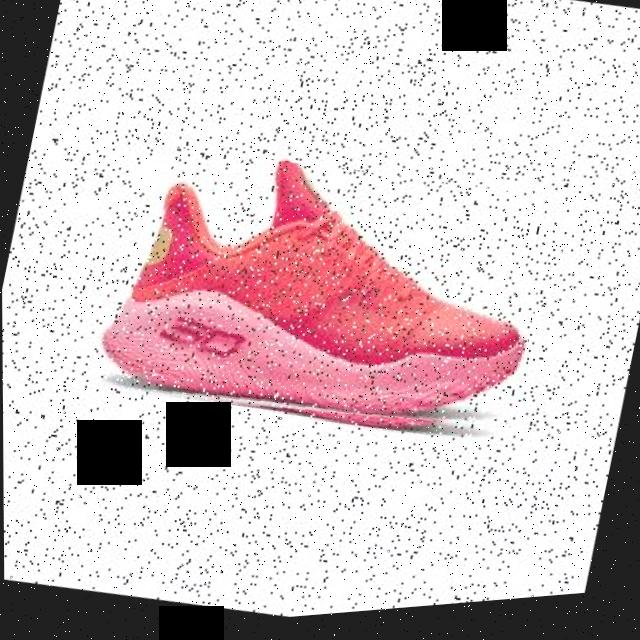shoe: (90, 119, 557, 481)
